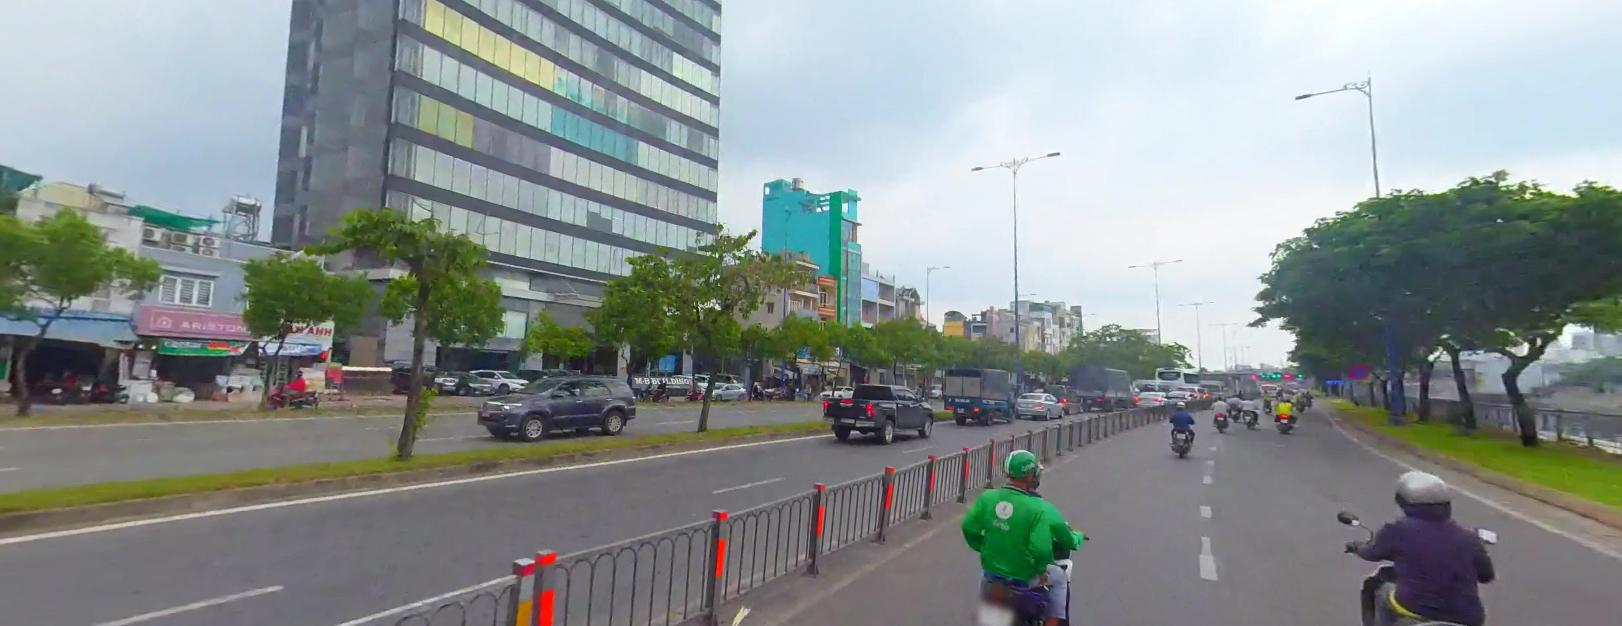Cam dung va do: (1349, 362, 1369, 379)
